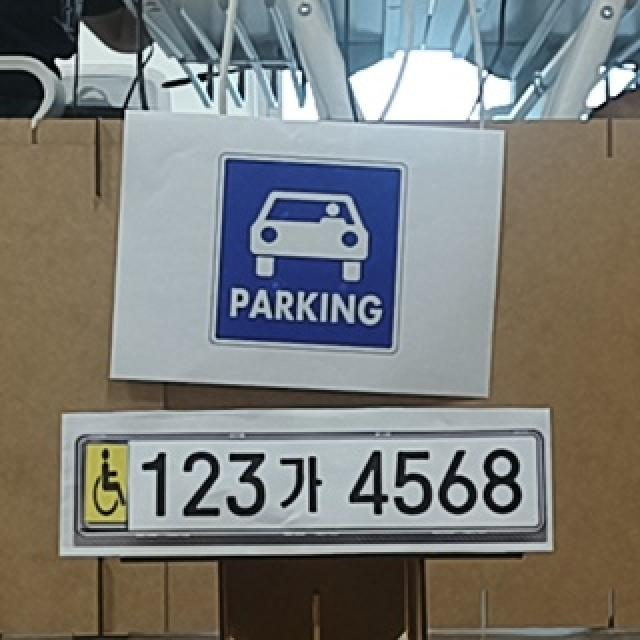disabled: (84, 442, 130, 523)
plate: (73, 434, 545, 539)
